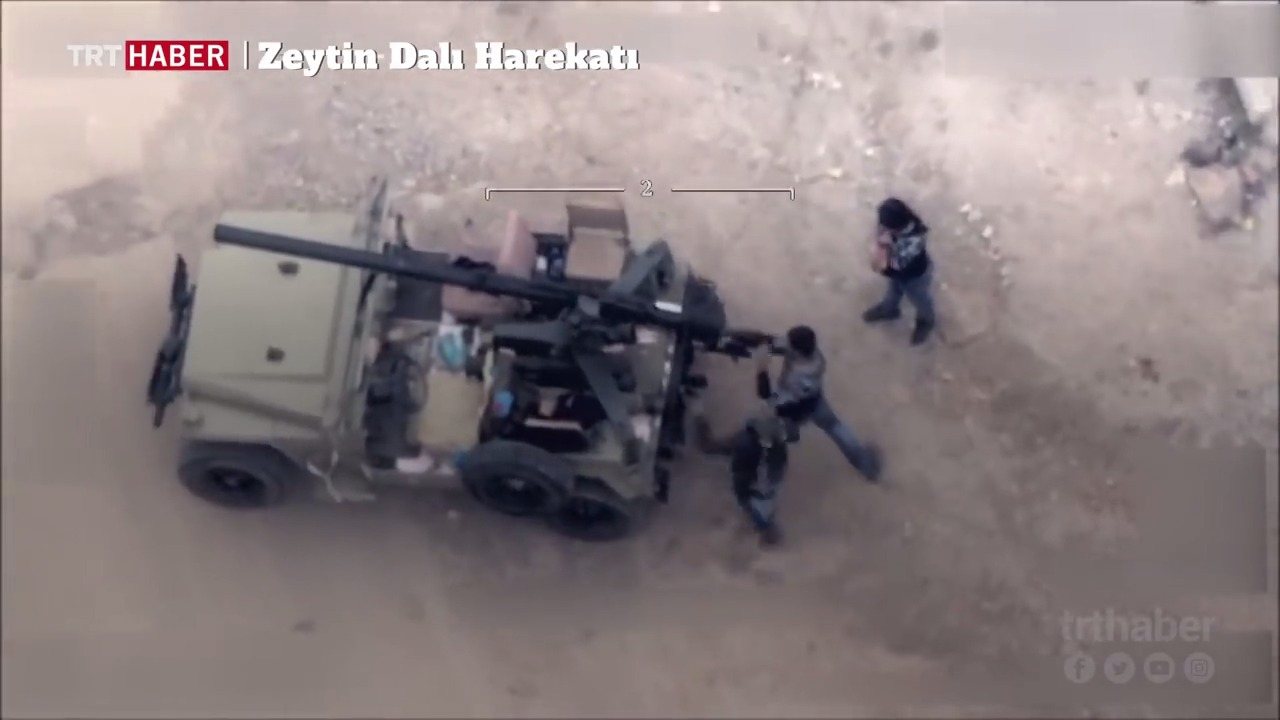arac: (126, 190, 708, 543)
insan: (780, 320, 885, 482), (713, 384, 794, 551), (858, 184, 944, 340)
